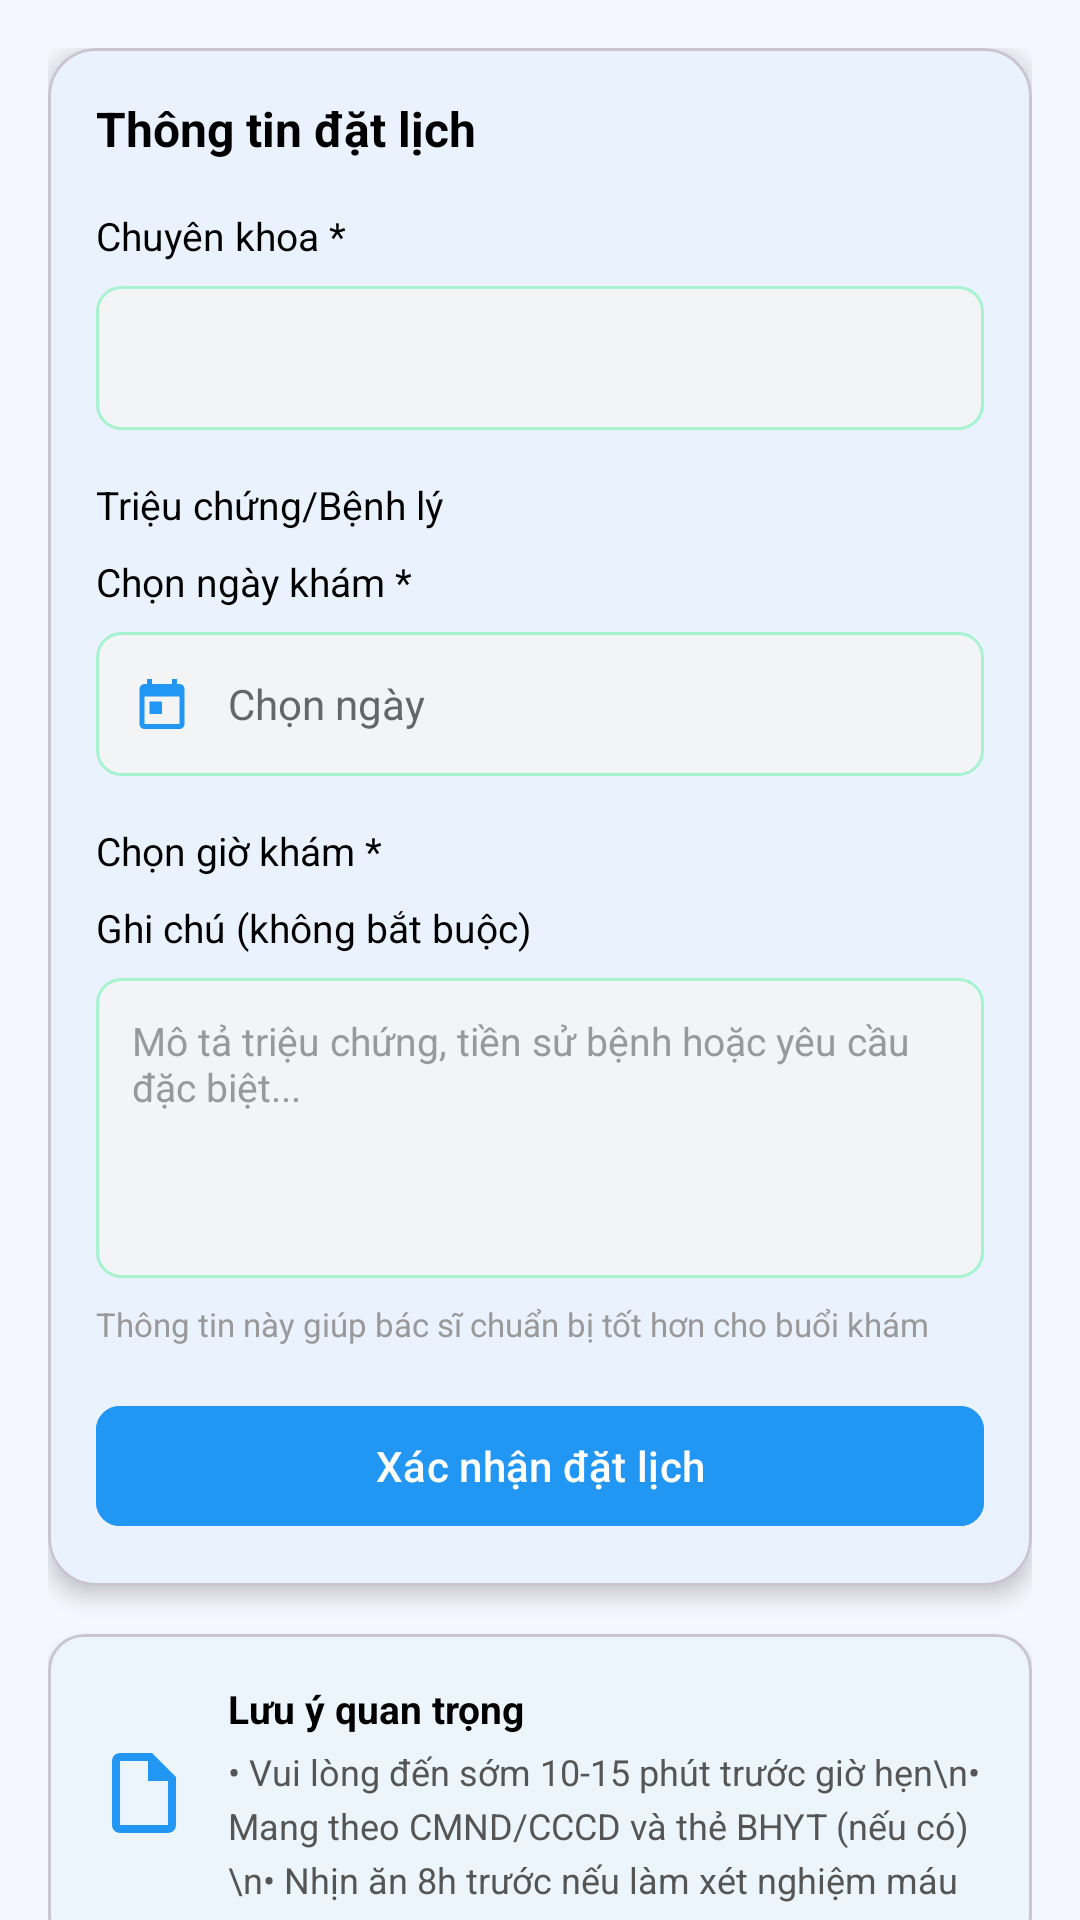

Named icons in this screenshot (1080×1920) and their centers, [x,y]:
Calendar: [162,704]
